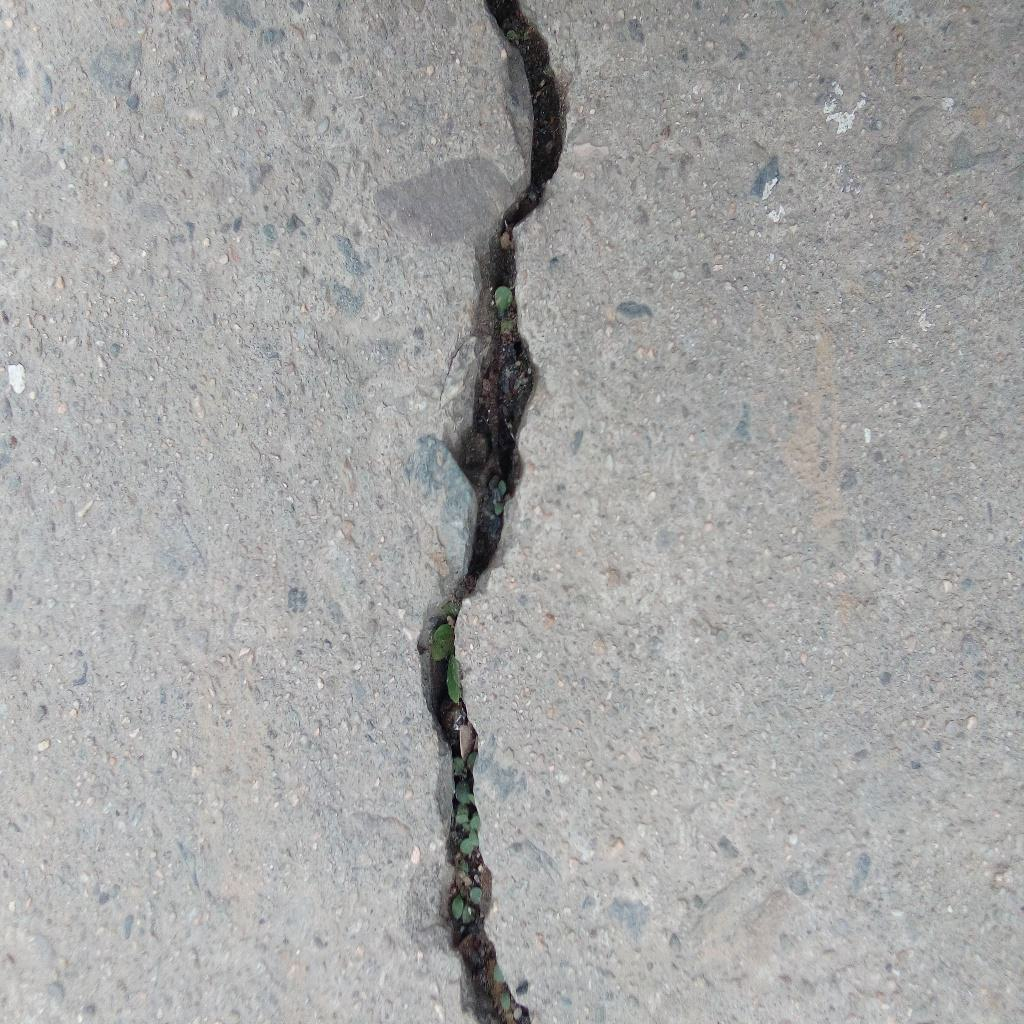Crack: (415, 1, 568, 1024)
